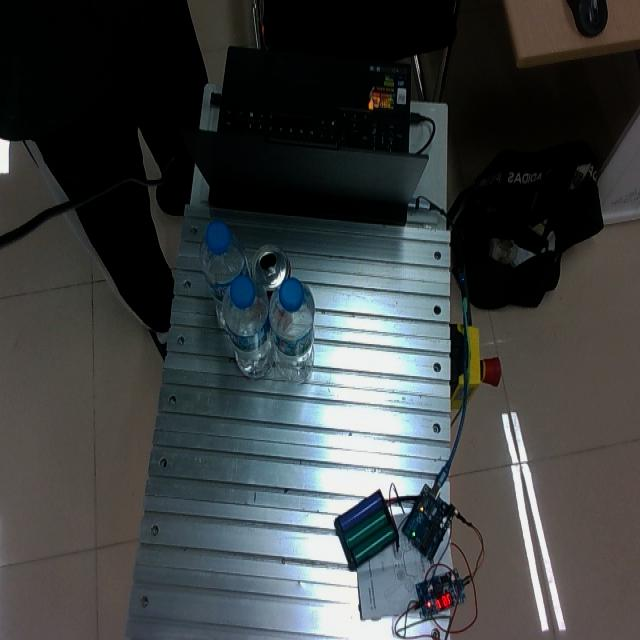coca: (251, 242, 292, 302)
lavie: (200, 221, 250, 331), (222, 274, 274, 378), (269, 278, 317, 382)
